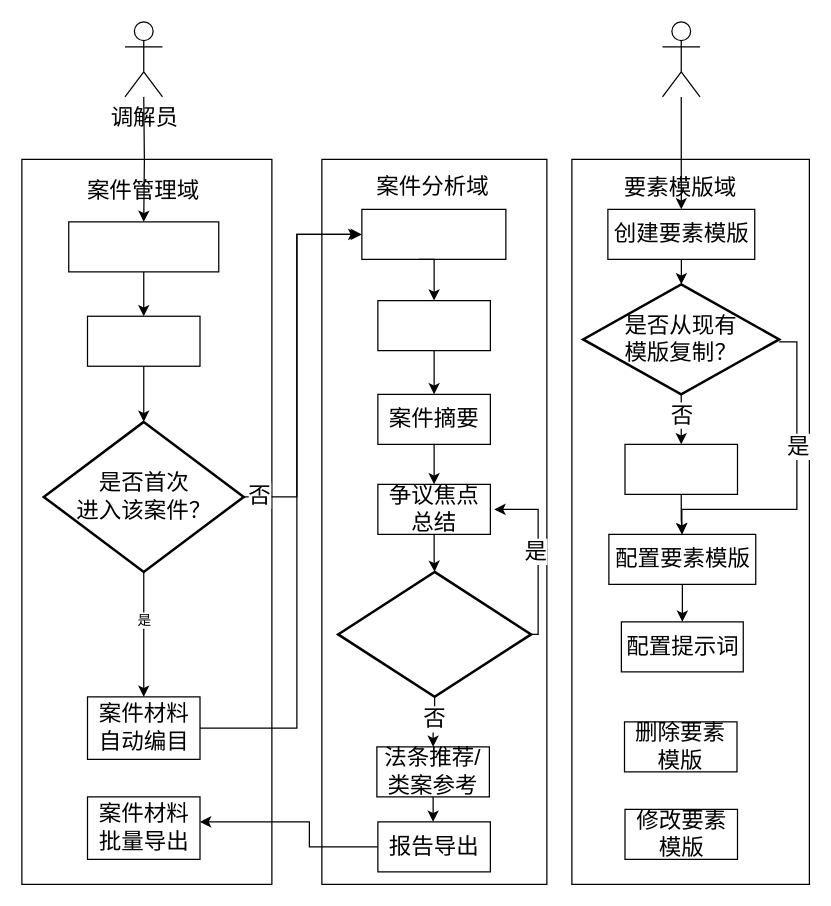
The diagram is 831 pixels wide and 906 high, and some of its shapes have lost their labels. The shapes that lost their labels are listed below. From the top down, each one's centre as x and y in pixels, then its label:
At (680,59): "管理员".
At (143,246): "拉取案件数据".
At (433,233): "选择要素模版".
At (143,340): "选择案件".
At (433,325): "要素提取".
At (681,468): "选择案由".
At (434,634): "是否存在 新的调解记录".
